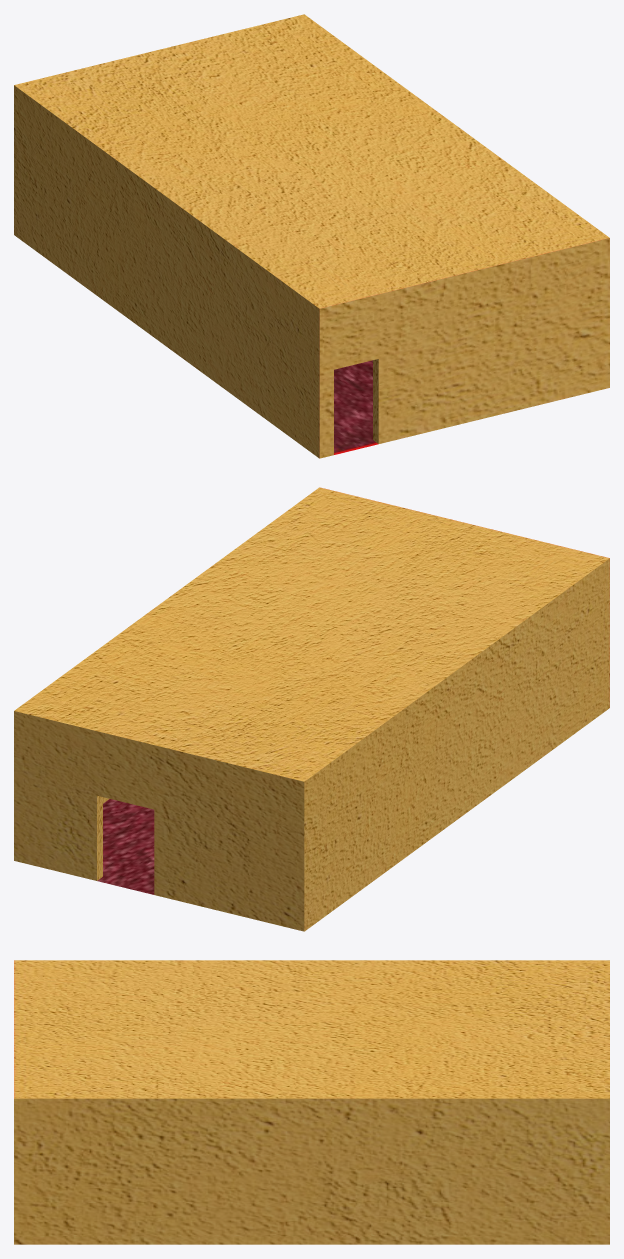
Rendered from hab2.fbx.
3 views of the same model, one above another, from view 1: azimuth 30°, elevation 25°; view 2: azimuth 150°, elevation 25°; view 3: azimuth 270°, elevation 25° (orthographic). The views are drawn at different scales.
Parts seen in each view (by area): view 1: pPlane3; view 2: pPlane3; view 3: pPlane3.
Part boxes in pixels (left/top/right/bottom): pPlane3: left=14, top=14, right=609, bottom=458; pPlane3: left=14, top=487, right=609, bottom=931; pPlane3: left=14, top=960, right=609, bottom=1244.
Size of the model in its own units: 42.52 by 20.97 by 77.49.
Materials: 2 (2 with a texture image).
